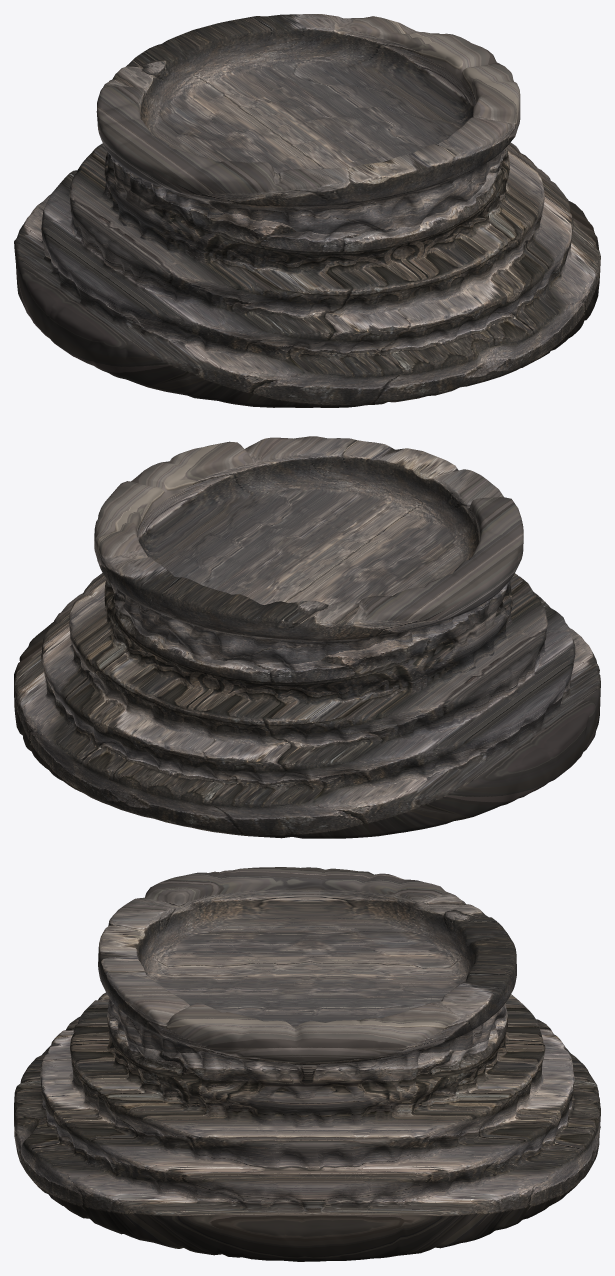
Rendered from altar-v1.glb.
The picture shows the model from 3 angles, top to bottom: view 1: azimuth 30°, elevation 25°; view 2: azimuth 150°, elevation 25°; view 3: azimuth 270°, elevation 25°; orthographic projection.
Parts seen in each view (by area): view 1: tmp0gx0oxje.ply; view 2: tmp0gx0oxje.ply; view 3: tmp0gx0oxje.ply.
Boxes of the visible parts, x1,y1,x2,y2 form: tmp0gx0oxje.ply: (14, 14, 600, 407); tmp0gx0oxje.ply: (14, 436, 600, 838); tmp0gx0oxje.ply: (14, 867, 600, 1261).
Bounding box in the file's own units: 1.99 × 0.7417 × 1.99.
Materials: 1 (1 with a texture image).
